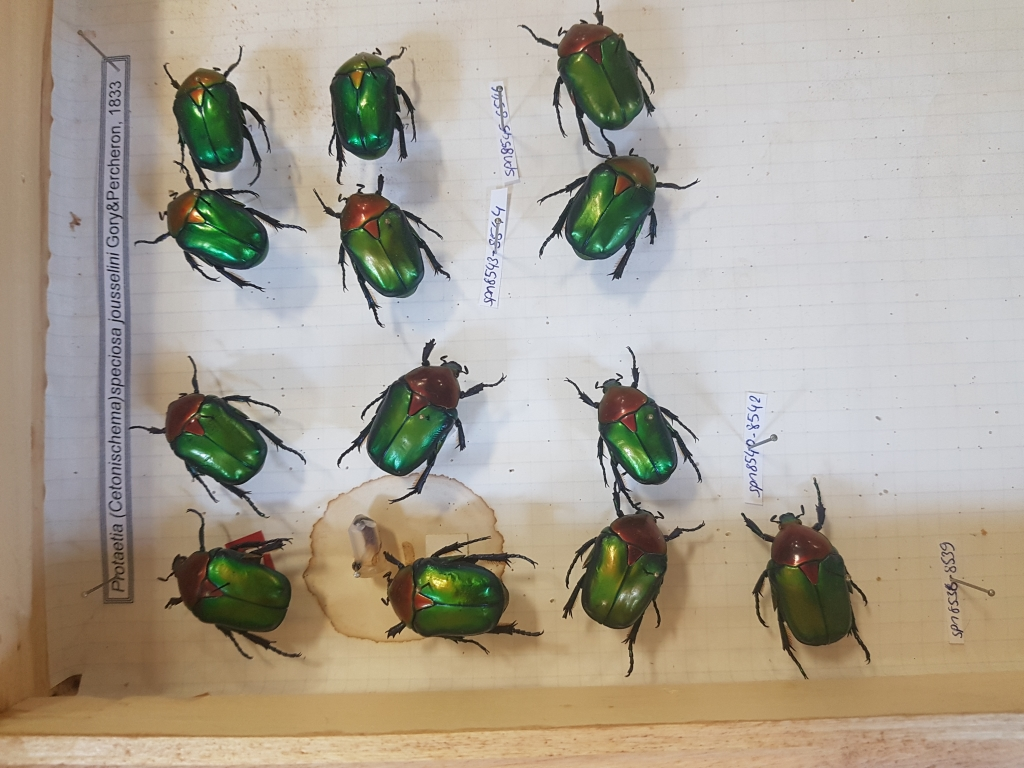Oxythyrea_funesta: (125, 206, 179, 351)
Protaetia_speciosa_jousseliniw: (732, 463, 886, 683), (335, 335, 515, 508), (126, 494, 313, 660), (122, 358, 308, 523), (561, 337, 709, 511), (368, 527, 555, 661), (500, 1, 668, 150), (132, 168, 309, 306), (531, 148, 706, 283), (306, 168, 458, 320), (560, 506, 703, 667), (149, 38, 278, 188), (320, 35, 425, 180)
